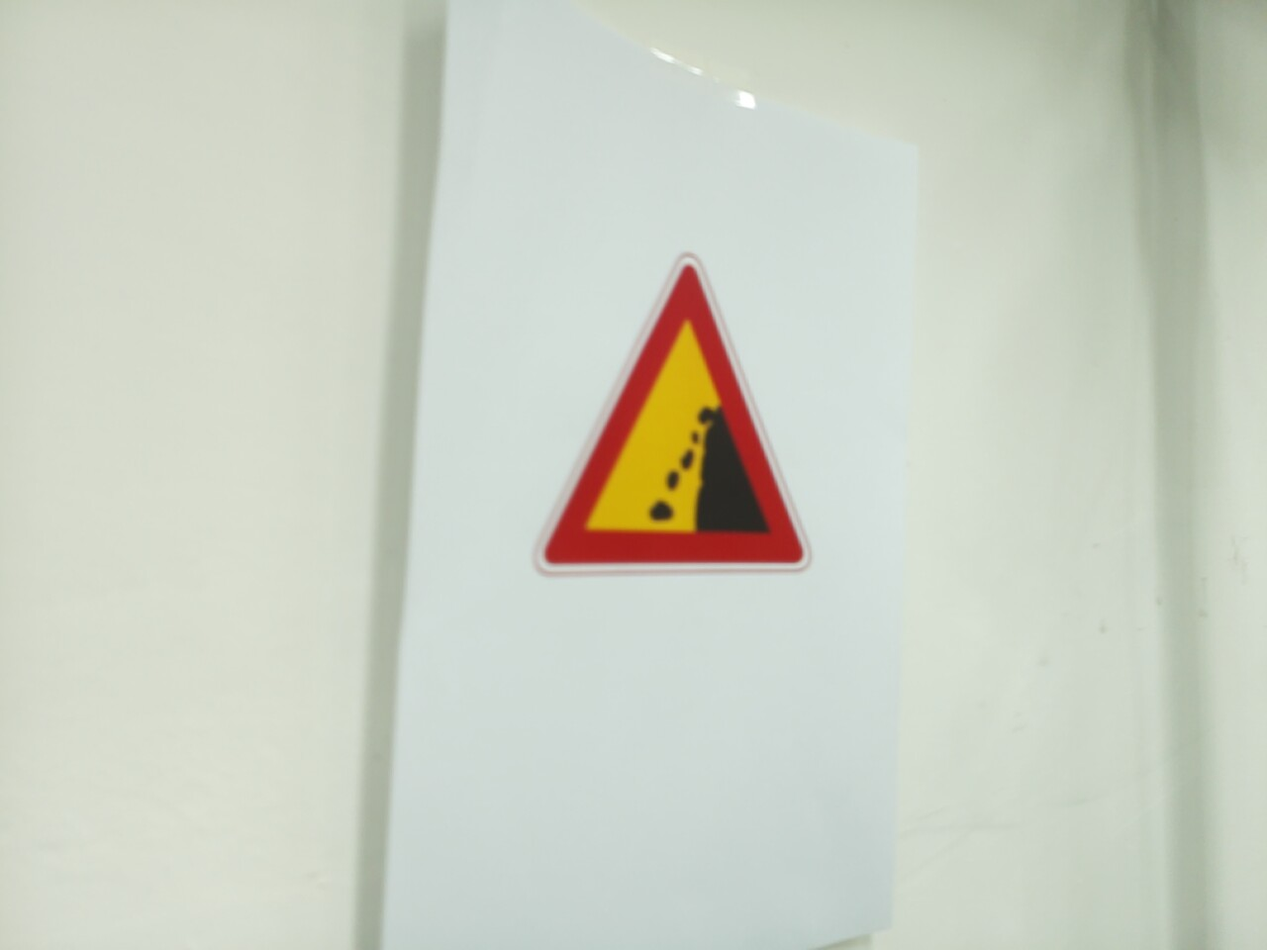falling_rocks: (536, 255, 812, 574)
